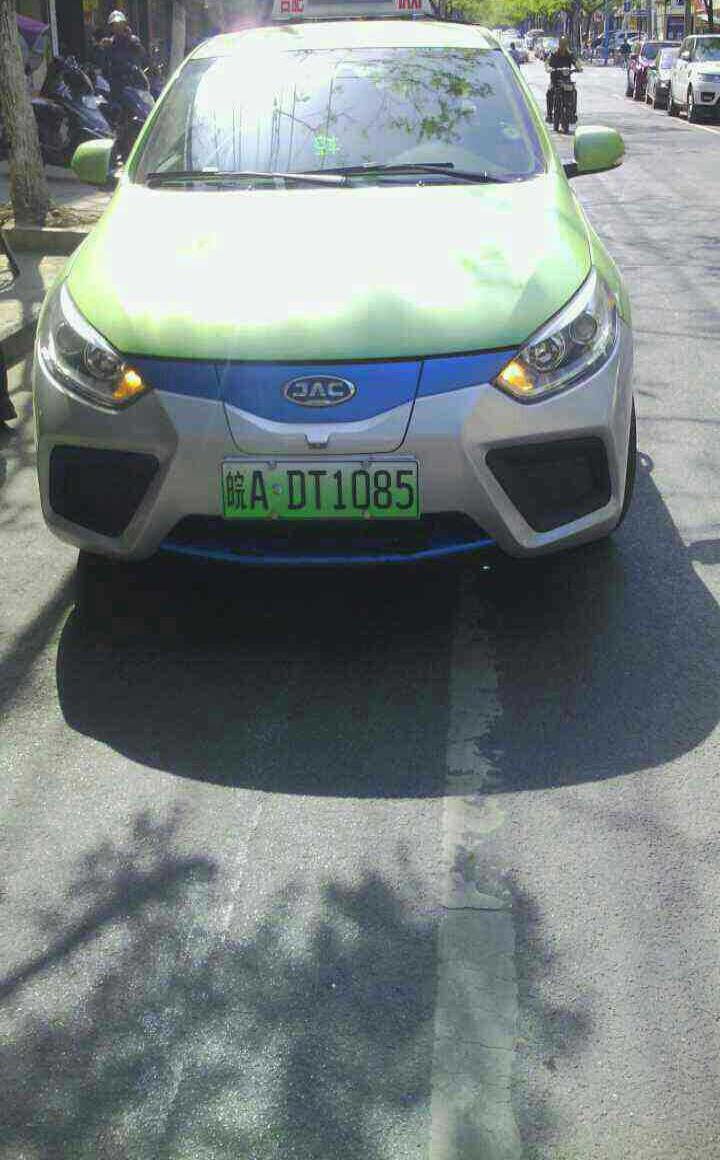car_id: (219, 458, 420, 517)
